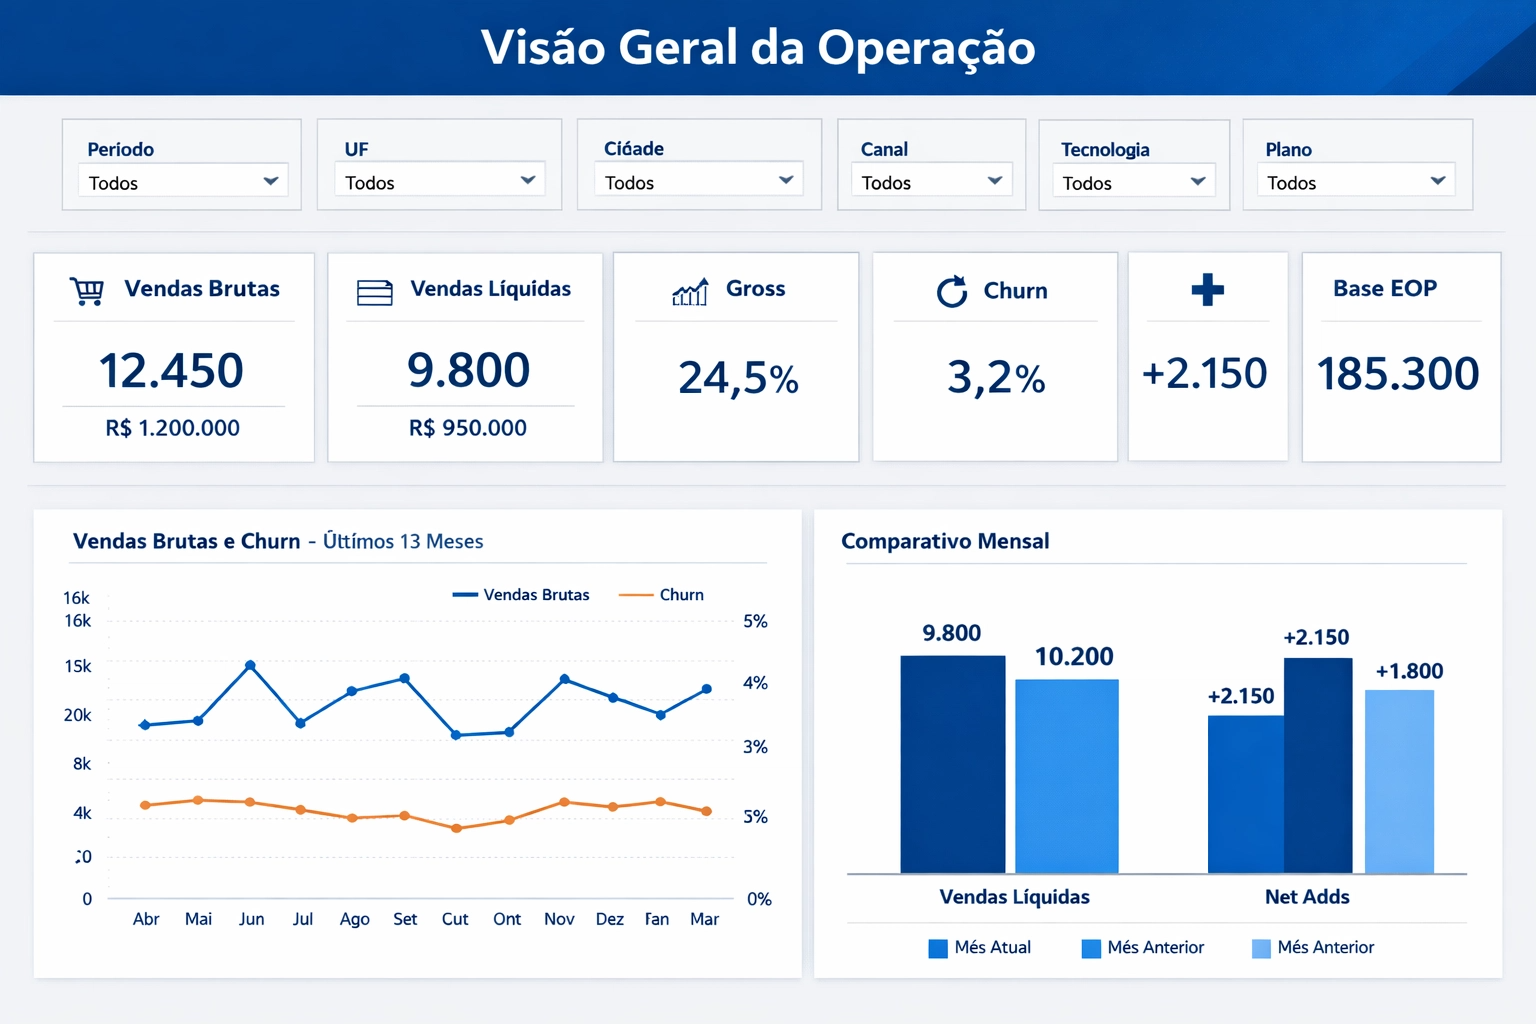

What the dashboard file says about the page in this screenshot:
{"tool":"powerbi","page":{"name":"Visão Geral","canvas":[1280,720],"ordinal":0},"visuals":[{"type":"slicer","fields":{"Values":["Dim_Tempo.Ano"]},"box":[14.1,96.4,167.5,75.1],"z":0},{"type":"slicer","fields":{"Values":["Dim_Tempo.Mes_Nome"]},"box":[198.8,96.4,167.5,75.1],"z":1000},{"type":"slicer","fields":{"Values":["Dim_Local.UF"]},"box":[380.3,96.4,167.5,75.1],"z":2000},{"type":"slicer","fields":{"Values":["Dim_Local.CIDADE"]},"box":[558.3,96.1,167.5,75.3],"z":3000},{"type":"slicer","fields":{"Values":["Dim_Canal.CANAL"]},"box":[735.6,96.4,167.5,75.1],"z":4000},{"type":"slicer","fields":{"Values":["Dim_Produto.TECNOLOGIA"]},"box":[919.3,96.1,167.5,75.3],"z":5000},{"type":"slicer","fields":{"Values":["Dim_Produto.PLANO"]},"box":[1097.2,96.4,167.5,75.1],"z":6000},{"type":"textbox","box":[14.3,0,1250.4,84.4],"z":7000},{"type":"card","title":"Vendas Brutas","fields":{"Values":["Medidas.Venda Bruta"]},"box":[14.3,197.4,190.9,102.6],"z":8000},{"type":"card","title":"Vendas Líquidas","fields":{"Values":["Medidas.Venda Líquida"]},"box":[219.4,197.4,190.9,102.6],"z":9000},{"type":"card","title":"Gross","fields":{"Values":["Medidas.Gross"]},"box":[428.5,197.4,190.9,102.6],"z":10000},{"type":"card","title":"Churn","fields":{"Values":["Medidas.Churn Total"]},"box":[634.9,197.4,190.9,102.6],"z":11000},{"type":"card","title":"Netadds","fields":{"Values":["Medidas.Netadds"]},"box":[846.6,198.7,190.9,102.6],"z":12000},{"type":"card","title":"Base EOP","fields":{"Values":["Medidas.Base EOP"]},"box":[1073.8,197.4,190.9,102.6],"z":13000},{"type":"lineChart","title":"Evolução Mensal","fields":{"Category":["Dim_Tempo.DT_REF_MES.Variation.Hierarquia de datas.Mês"],"Y":["Medidas.Venda Bruta","Medidas.Venda Líquida","Medidas.Gross","Medidas.Churn Total","Medidas.Netadds"]},"box":[14.3,327.2,605.1,372.7],"z":14000},{"type":"clusteredColumnChart","title":"Comparativo","fields":{"Category":["Categorias Comparativo.Indicador"],"Y":["Medidas.Valor Comparativo Dinâmico"],"Series":["Período Comparativo.Período"]},"box":[634.9,327.2,629.7,372.7],"z":15000},{"type":"pageNavigator","box":[892,16.9,358.4,50.6],"z":16000}]}

Visuals, with their boxes on the page's 1280x720 design canvas (x1, y1, x2, y2). These are canvas units, not pixel positions in the 1536x1024 screenshot, which may show the page scaled, cropped or inside an application window:
slicer - Dim_Tempo.Ano: <bbox>14, 96, 182, 172</bbox>
slicer - Dim_Tempo.Mes_Nome: <bbox>199, 96, 366, 172</bbox>
slicer - Dim_Local.UF: <bbox>380, 96, 548, 172</bbox>
slicer - Dim_Local.CIDADE: <bbox>558, 96, 726, 171</bbox>
slicer - Dim_Canal.CANAL: <bbox>736, 96, 903, 172</bbox>
slicer - Dim_Produto.TECNOLOGIA: <bbox>919, 96, 1087, 171</bbox>
slicer - Dim_Produto.PLANO: <bbox>1097, 96, 1265, 172</bbox>
textbox: <bbox>14, 0, 1265, 84</bbox>
"Vendas Brutas" card: <bbox>14, 197, 205, 300</bbox>
"Vendas Líquidas" card: <bbox>219, 197, 410, 300</bbox>
"Gross" card: <bbox>428, 197, 619, 300</bbox>
"Churn" card: <bbox>635, 197, 826, 300</bbox>
"Netadds" card: <bbox>847, 199, 1038, 301</bbox>
"Base EOP" card: <bbox>1074, 197, 1265, 300</bbox>
"Evolução Mensal" lineChart: <bbox>14, 327, 619, 700</bbox>
"Comparativo" clusteredColumnChart: <bbox>635, 327, 1265, 700</bbox>
pageNavigator: <bbox>892, 17, 1250, 68</bbox>
